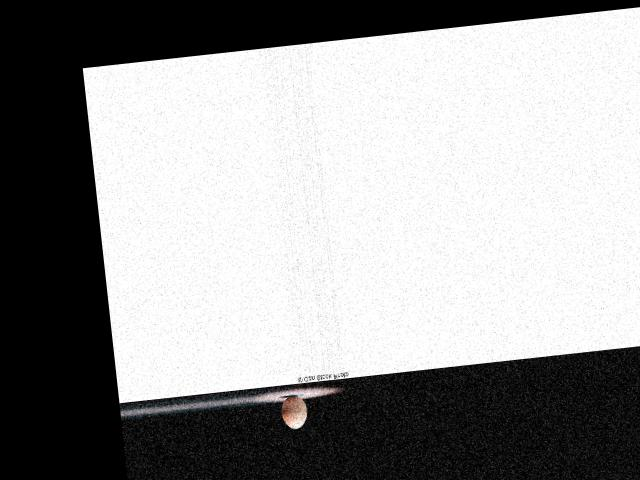egg: (279, 394, 309, 429)
